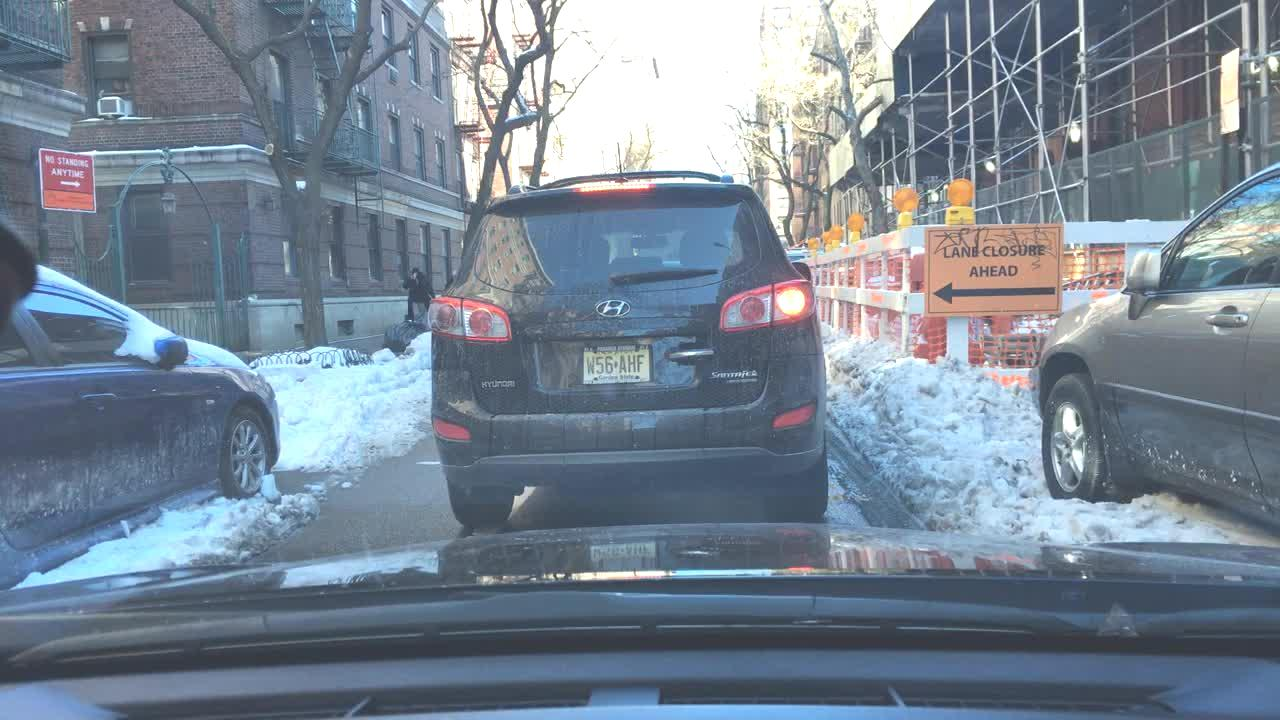Hyundai: (573, 285, 646, 327)
